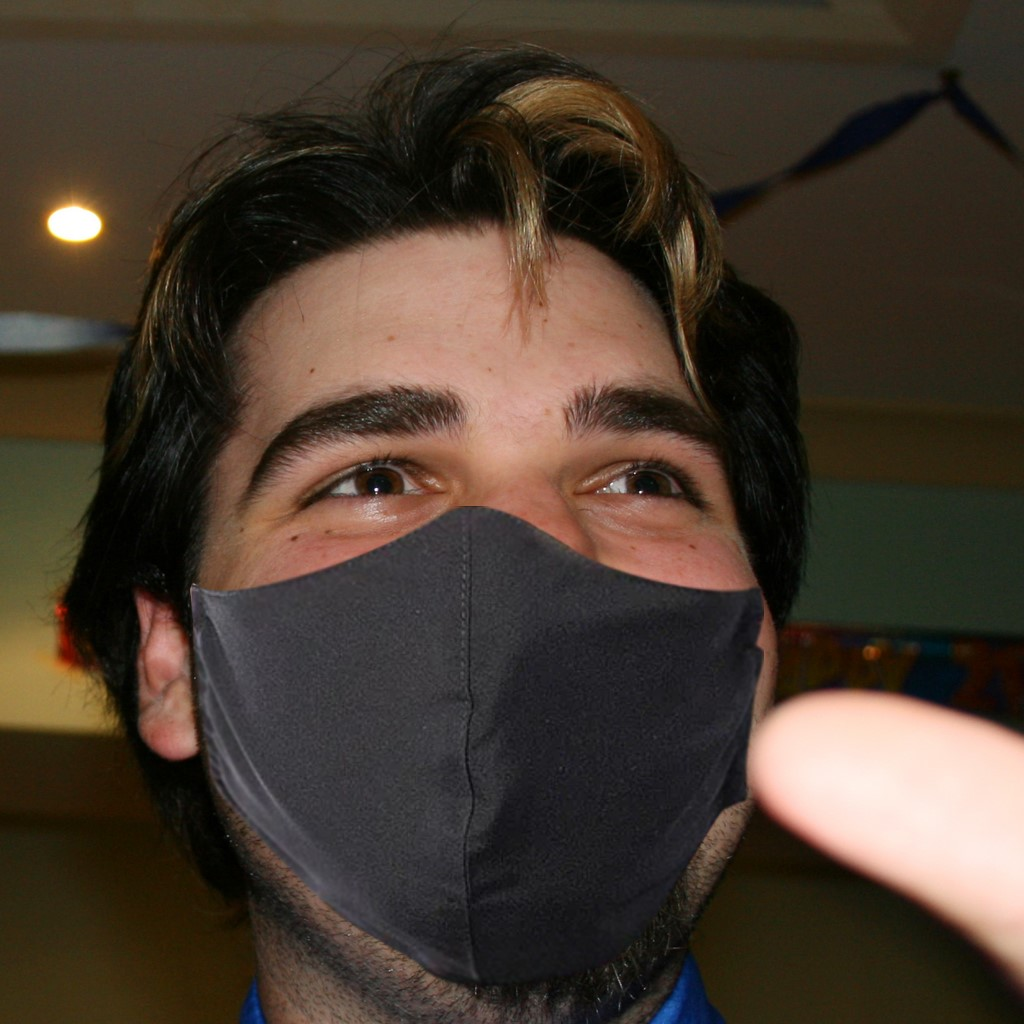con_mascara: (170, 226, 782, 975)
